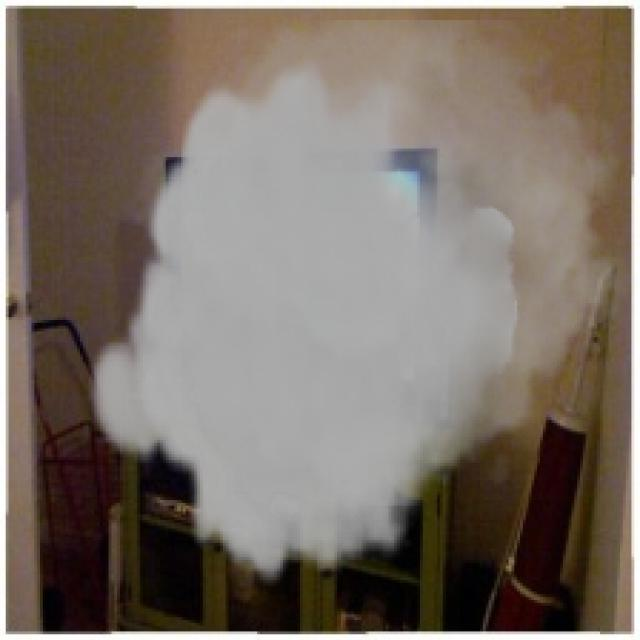smoke: (86, 20, 637, 586)
